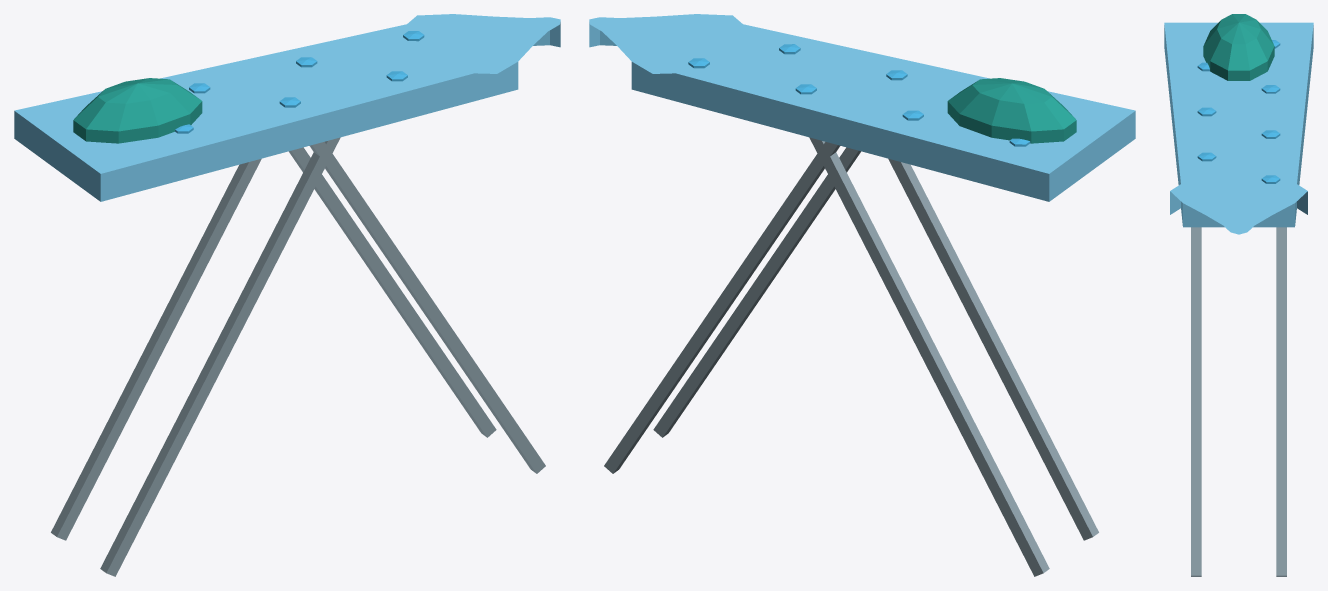
The model's file is strykbrada.glb.
The picture shows the model from 3 angles, left to right: view 1: azimuth 30°, elevation 25°; view 2: azimuth 150°, elevation 25°; view 3: azimuth 270°, elevation 25°; orthographic projection. The views are drawn at different scales.
Parts seen in each view (by area): view 1: strykbrada; view 2: strykbrada; view 3: strykbrada.
Part boxes in pixels (bbox=[...]): strykbrada: bbox=[14, 14, 560, 576]; strykbrada: bbox=[589, 14, 1135, 576]; strykbrada: bbox=[1164, 14, 1313, 576].
Size of the model in its own units: 0.94 by 0.8226 by 0.28.
